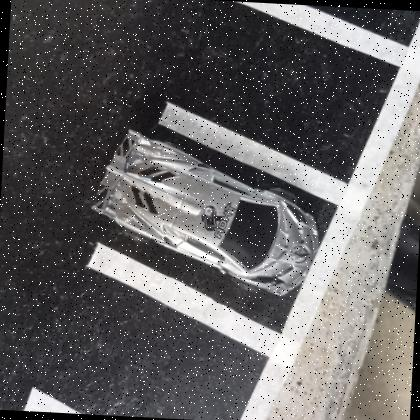Car: (85, 127, 325, 297)
